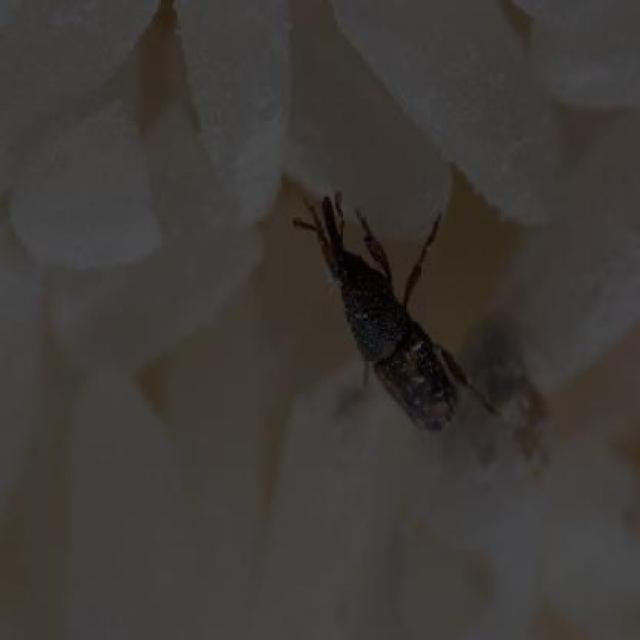rice-bug: (317, 191, 466, 434)
